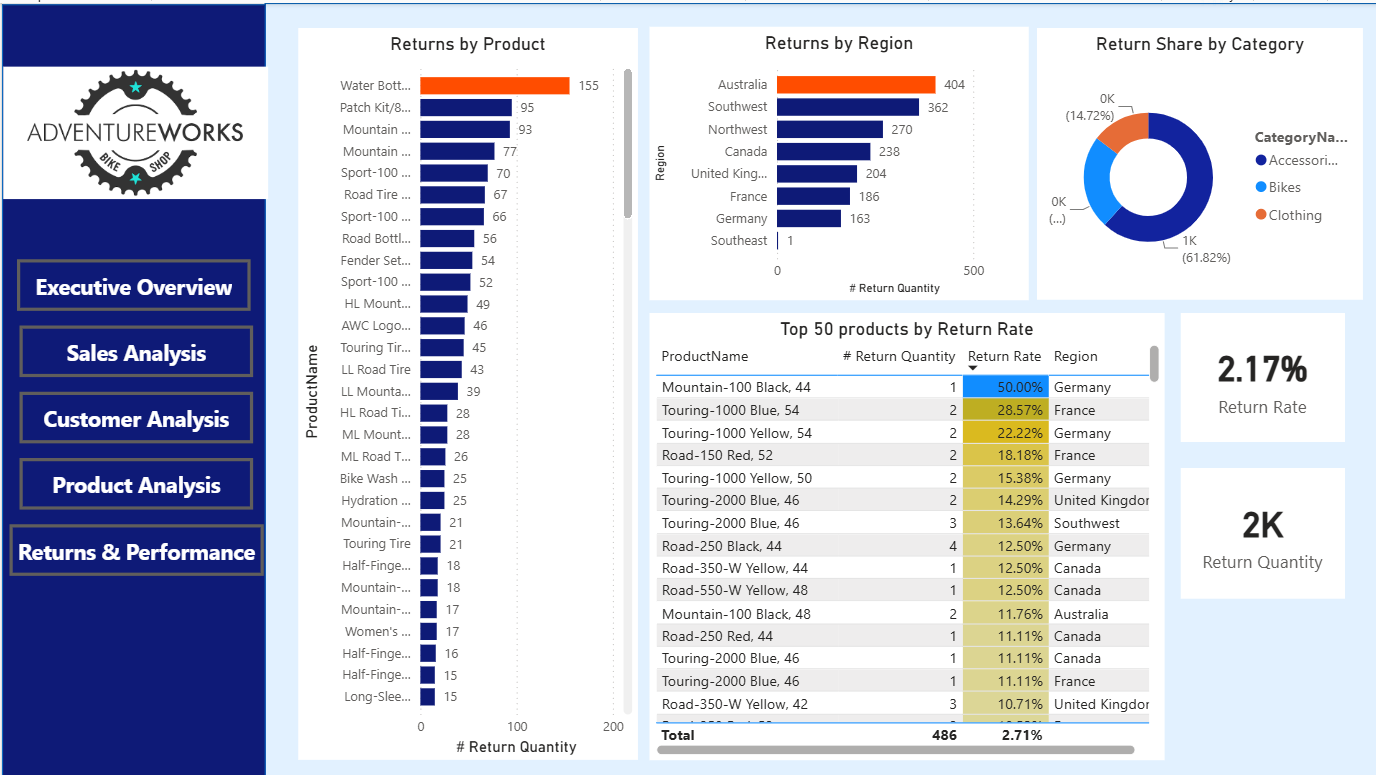

The page's visual inventory and layout, read from the dashboard file:
{"tool":"powerbi","page":{"name":"Returns & Performance","canvas":[1280,720],"ordinal":4},"visuals":[{"type":"group","id":"g1","title":"Navigation","box":[7.2,243,250.4,280.1],"z":0},{"type":"shape","box":[0,1.4,245.3,719.8],"z":500,"group":"g3"},{"type":"shape","box":[244.4,0,1035.4,720.1],"z":1000},{"type":"card","fields":{"Values":["Fact_Returns.Return Quantity"]},"box":[1097,432.9,152.5,121.7],"z":2000},{"type":"card","fields":{"Values":["Fact_Returns.Return Rate"]},"box":[1097,288.1,152.5,120.2],"z":3000},{"type":"textbox","box":[7.2,359.6,250.4,44.5],"z":3000,"group":"g4"},{"type":"barChart","title":"Returns by Product","fields":{"Category":["Dim_Product.ProductName"],"Y":["Fact_Returns.# Return Quantity"]},"box":[275.8,23.1,315.8,681],"z":4000},{"type":"textbox","box":[11.6,243,240.7,43],"z":4000,"group":"g4"},{"type":"barChart","title":"Returns by Region","fields":{"Y":["Fact_Returns.# Return Quantity"],"Category":["Dim_Territory.Region"]},"box":[602.4,21.6,352.8,254.2],"z":5000},{"type":"textbox","box":[7.2,299.5,244.9,47.3],"z":5000,"group":"g4"},{"type":"donutChart","title":"Return Share by Category","fields":{"Category":["Dim_Categories.CategoryName"],"Y":["Fact_Returns.# Return Quantity"]},"box":[962.9,23.1,303.5,252.7],"z":6000},{"type":"textbox","box":[7.2,417,243.5,44.5],"z":6000,"group":"g4"},{"type":"tableEx","title":"Top 50 products by Return Rate","fields":{"Values":["Dim_Product.ProductName","Fact_Returns.# Return Quantity","Fact_Returns.Return Rate","Dim_Territory.Region"]},"box":[602.4,288.1,479.2,416],"z":7000},{"type":"textbox","box":[7.2,474.4,247.7,48.7],"z":7000,"group":"g4"},{"type":"group","id":"g2","title":"Navigation","box":[0,0,247.3,721.6],"z":8000},{"type":"group","id":"g3","title":"Group 1","box":[0,1.4,245.3,719.8],"z":12000,"group":"g2"},{"type":"group","id":"g4","title":"Group 1","box":[7.2,243,250.4,280.1],"z":12000,"group":"g1"},{"type":"actionButton","box":[13.8,238.4,217.3,48],"z":12003,"group":"g3"},{"type":"image","box":[1.1,0,246.3,242.1],"z":12500,"group":"g2"},{"type":"actionButton","box":[16.6,300.1,217.3,48],"z":13000,"group":"g3"},{"type":"actionButton","box":[16.6,423.4,217.3,48],"z":14000,"group":"g3"},{"type":"actionButton","box":[7,485.1,236.5,48],"z":15000,"group":"g3"},{"type":"actionButton","box":[16.6,361.8,217.3,48],"z":16000,"group":"g3"}]}

Visuals, with their boxes in screenshot pixels (x1, y1, x2, y2), scaled from the page's 1280x720 canvas onto the 1376x775 screenshot:
"Navigation" group: (8, 262, 277, 563)
shape: (0, 2, 264, 774)
shape: (263, 0, 1375, 774)
card - Fact_Returns.Return Quantity: (1179, 466, 1343, 597)
card - Fact_Returns.Return Rate: (1179, 310, 1343, 439)
textbox: (8, 387, 277, 435)
"Returns by Product" barChart: (296, 25, 636, 758)
textbox: (12, 262, 271, 308)
"Returns by Region" barChart: (648, 23, 1027, 297)
textbox: (8, 322, 271, 373)
"Return Share by Category" donutChart: (1035, 25, 1361, 297)
textbox: (8, 449, 270, 497)
"Top 50 products by Return Rate" tableEx: (648, 310, 1163, 758)
textbox: (8, 511, 274, 563)
"Navigation" group: (0, 0, 266, 774)
"Group 1" group: (0, 2, 264, 774)
"Group 1" group: (8, 262, 277, 563)
actionButton: (15, 257, 248, 308)
image: (1, 0, 266, 261)
actionButton: (18, 323, 251, 375)
actionButton: (18, 456, 251, 507)
actionButton: (8, 522, 262, 574)
actionButton: (18, 389, 251, 441)
